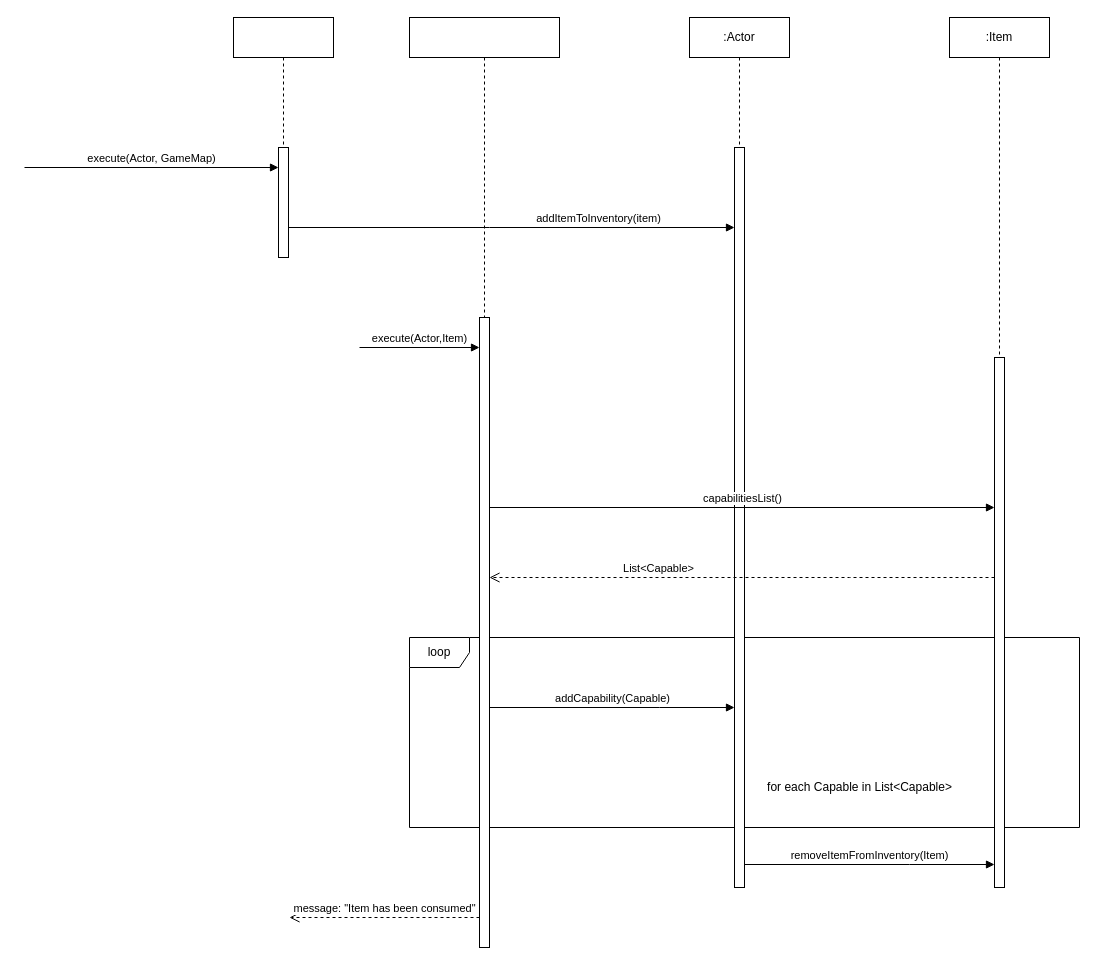
This 1097x965 diagram has some shape labels left out. Each missing label, with the box of its shape:
:ConsumeItemAction: (408, 16, 560, 948)
:PickUpItemAction: (232, 16, 334, 258)
